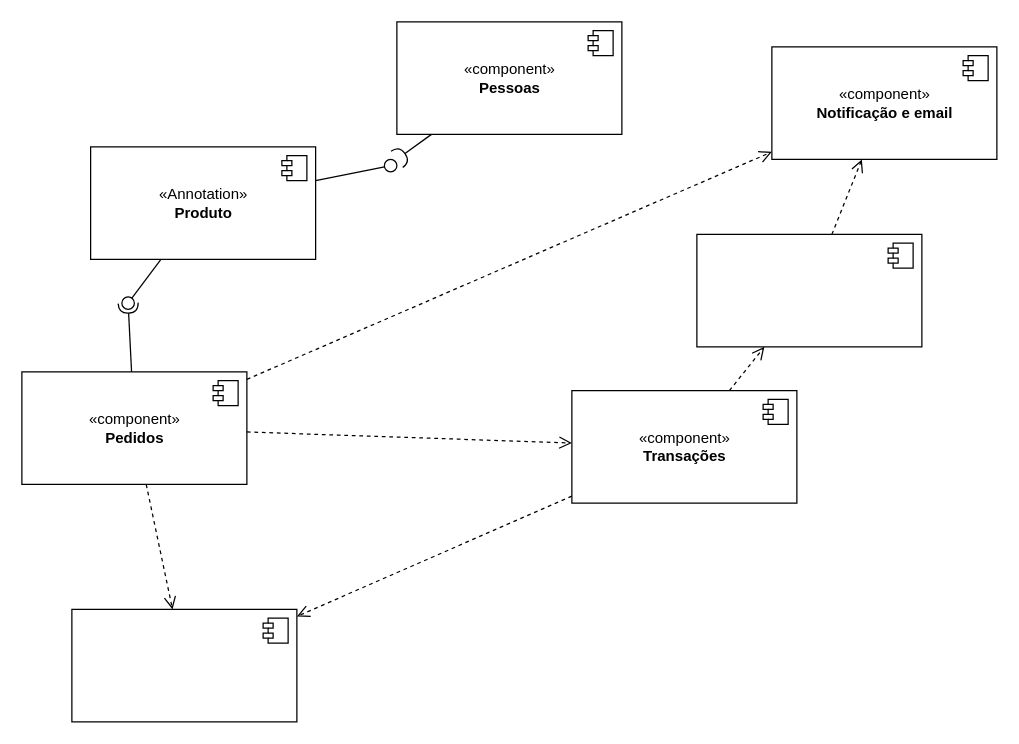
This 1019x744 diagram has some shape labels left out. Here are the shapes that lost their labels. From the top down, the centre of each, then its label:
At [809,290]: "«component» Conta".
At [184,665]: "«component» Moedas".
